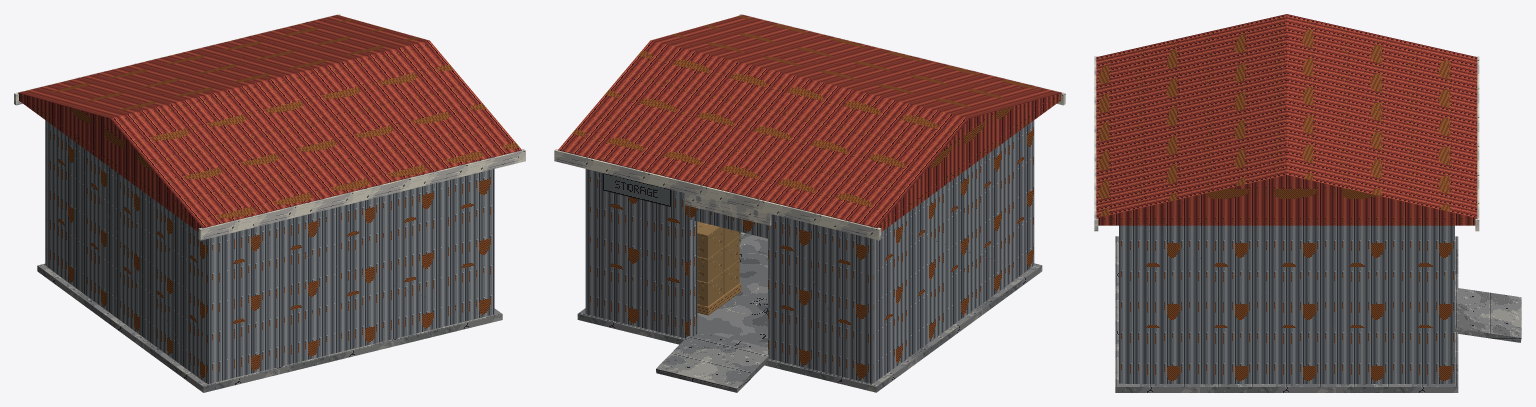
File: buildings__shed.glb
3 views of the same model, side by side, from view 1: azimuth 30°, elevation 25°; view 2: azimuth 150°, elevation 25°; view 3: azimuth 270°, elevation 25° (orthographic). The views are drawn at different scales.
Parts seen in each view (by area): view 1: _MeshInstance3D_176, _MeshInstance3D_180, _MeshInstance3D_178, _MeshInstance3D_179; view 2: _MeshInstance3D_180, _MeshInstance3D_176, _MeshInstance3D_178, _MeshInstance3D_179, _MeshInstance3D_177, COM_PalletStack_Mesh, _MeshInstance3D_170; view 3: _MeshInstance3D_180, _MeshInstance3D_176, _MeshInstance3D_178, _MeshInstance3D_179.
Part boxes in pixels (x1,y1,x2,y2): _MeshInstance3D_176: [45, 120, 494, 384]; _MeshInstance3D_180: [18, 15, 521, 231]; _MeshInstance3D_178: [37, 263, 502, 392]; _MeshInstance3D_179: [14, 14, 525, 240]; _MeshInstance3D_180: [558, 15, 1061, 231]; _MeshInstance3D_176: [585, 120, 1034, 383]; _MeshInstance3D_178: [577, 263, 1042, 392]; _MeshInstance3D_179: [554, 14, 1065, 240]; _MeshInstance3D_177: [697, 233, 767, 347]; COM_PalletStack_Mesh: [697, 221, 741, 315]; _MeshInstance3D_170: [603, 173, 671, 206]; _MeshInstance3D_180: [1096, 14, 1477, 225]; _MeshInstance3D_176: [1119, 225, 1454, 383]; _MeshInstance3D_178: [1115, 236, 1521, 392]; _MeshInstance3D_179: [1094, 56, 1479, 231].
Bounding box in the file's own units: 5.7 × 3.7 × 6.28.
Materials: 11 (11 with a texture image).
